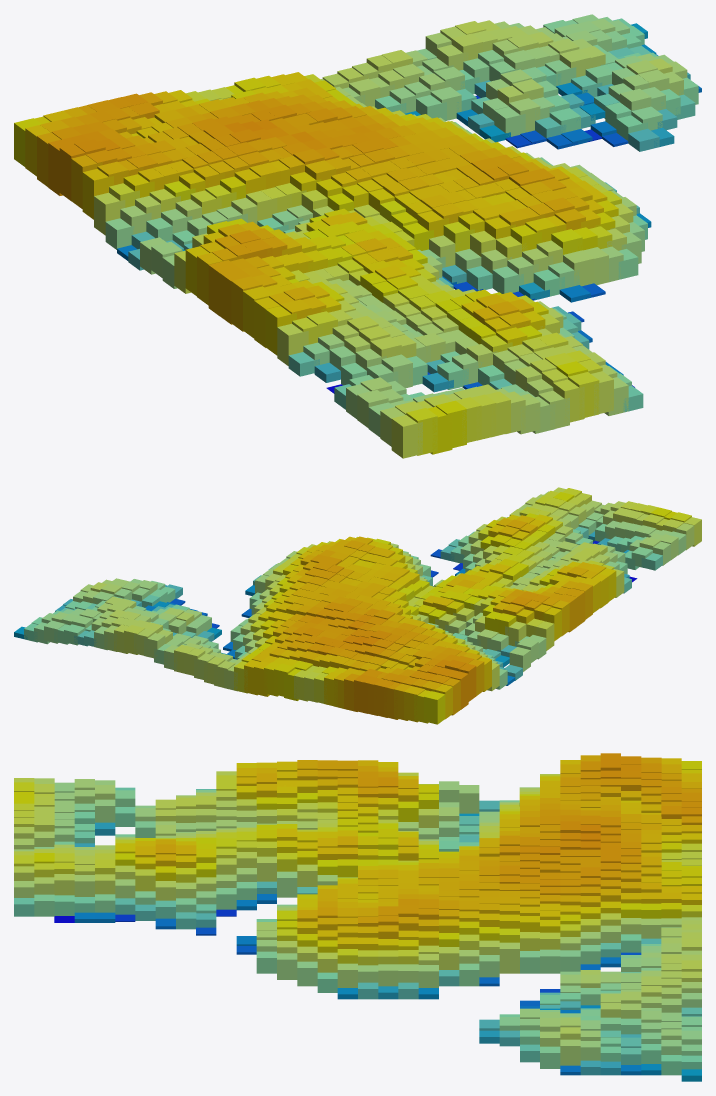
Rendered from population.glb.
3 renders of one model, top to bottom at view 1: azimuth 30°, elevation 25°; view 2: azimuth 150°, elevation 25°; view 3: azimuth 270°, elevation 25°, orthographic. The views are drawn at different scales.
Visible parts, largest first — view 1: population; view 2: population; view 3: population.
Part boxes in pixels (<box>): population: <box>14,14,701,458</box>; population: <box>14,487,701,724</box>; population: <box>14,753,701,1081</box>.
Size of the model in its own units: 3136 by 327 by 3393.
